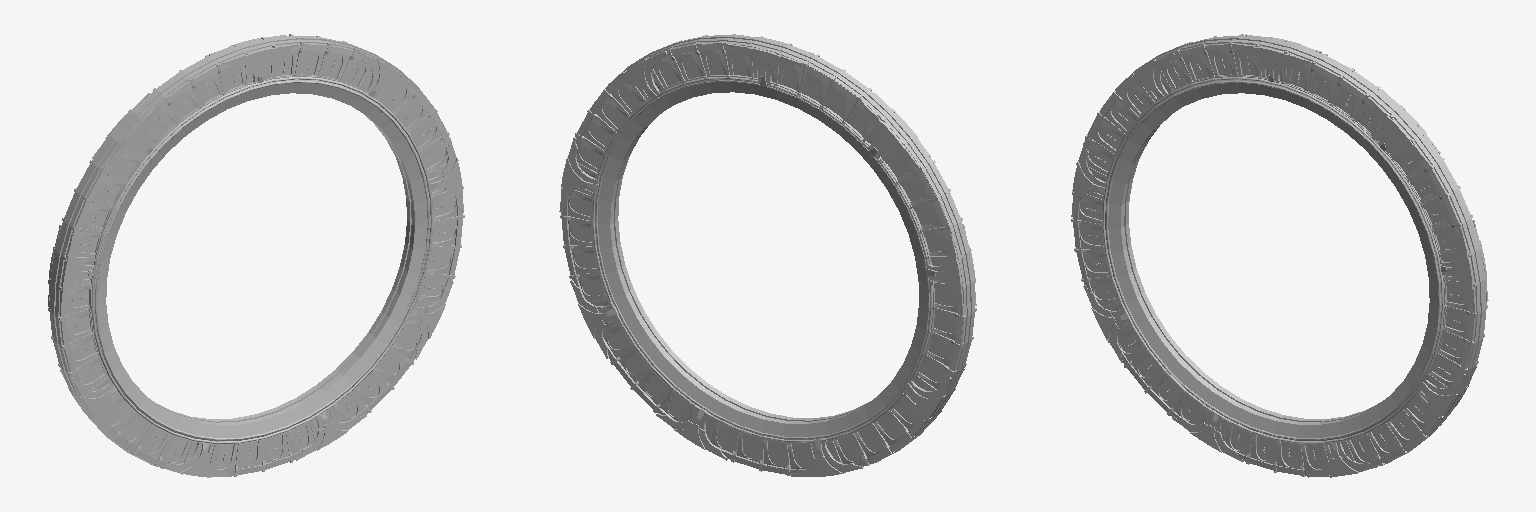
The model's file is Universe_stargate_full.obj.
3 views of the same model, side by side, from view 1: azimuth 30°, elevation 25°; view 2: azimuth 150°, elevation 25°; view 3: azimuth 330°, elevation 25° (orthographic).
Parts seen in each view (by area): view 1: universe_chevron_Plane.001_universe_chevron_Plane.002; view 2: universe_chevron_Plane.001_universe_chevron_Plane.002; view 3: universe_chevron_Plane.001_universe_chevron_Plane.002.
Part boxes in pixels (left/top/right/bottom): universe_chevron_Plane.001_universe_chevron_Plane.002: left=48, top=34, right=464, bottom=477; universe_chevron_Plane.001_universe_chevron_Plane.002: left=559, top=34, right=976, bottom=476; universe_chevron_Plane.001_universe_chevron_Plane.002: left=1071, top=34, right=1488, bottom=477.
Bounding box in the file's own units: 8.68 × 8.68 × 0.5455.